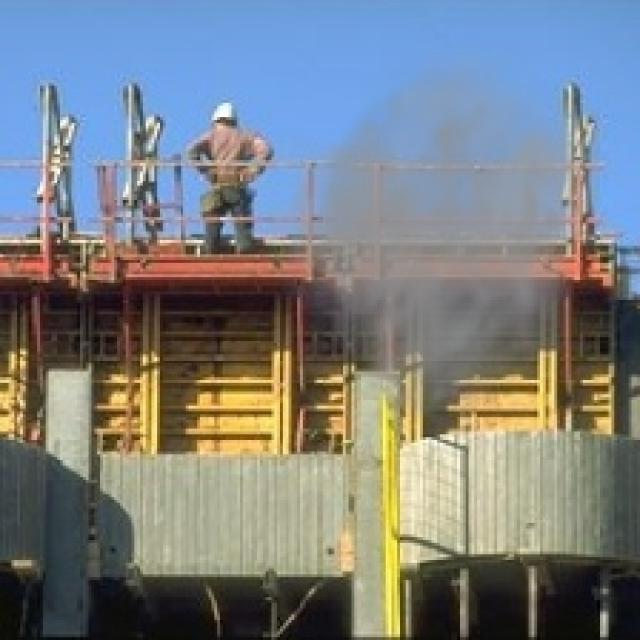smoke: (246, 34, 600, 437)
